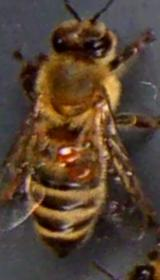varroa_mite: (54, 134, 86, 167)
